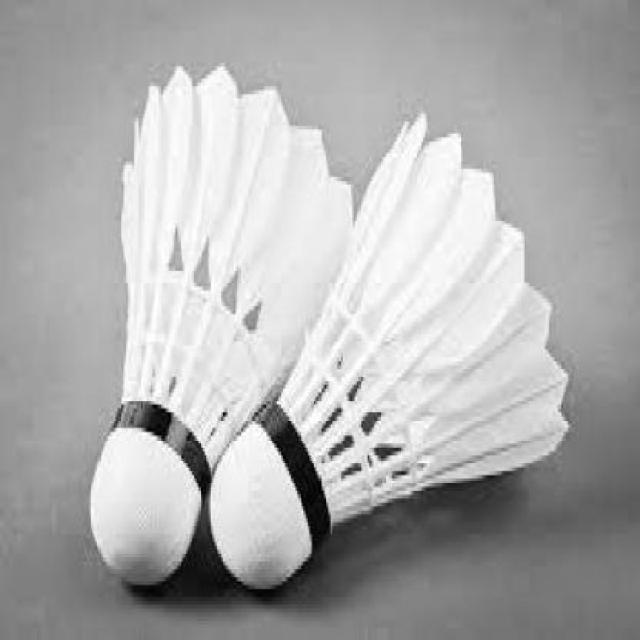Shuttlecock: (86, 58, 574, 597)
